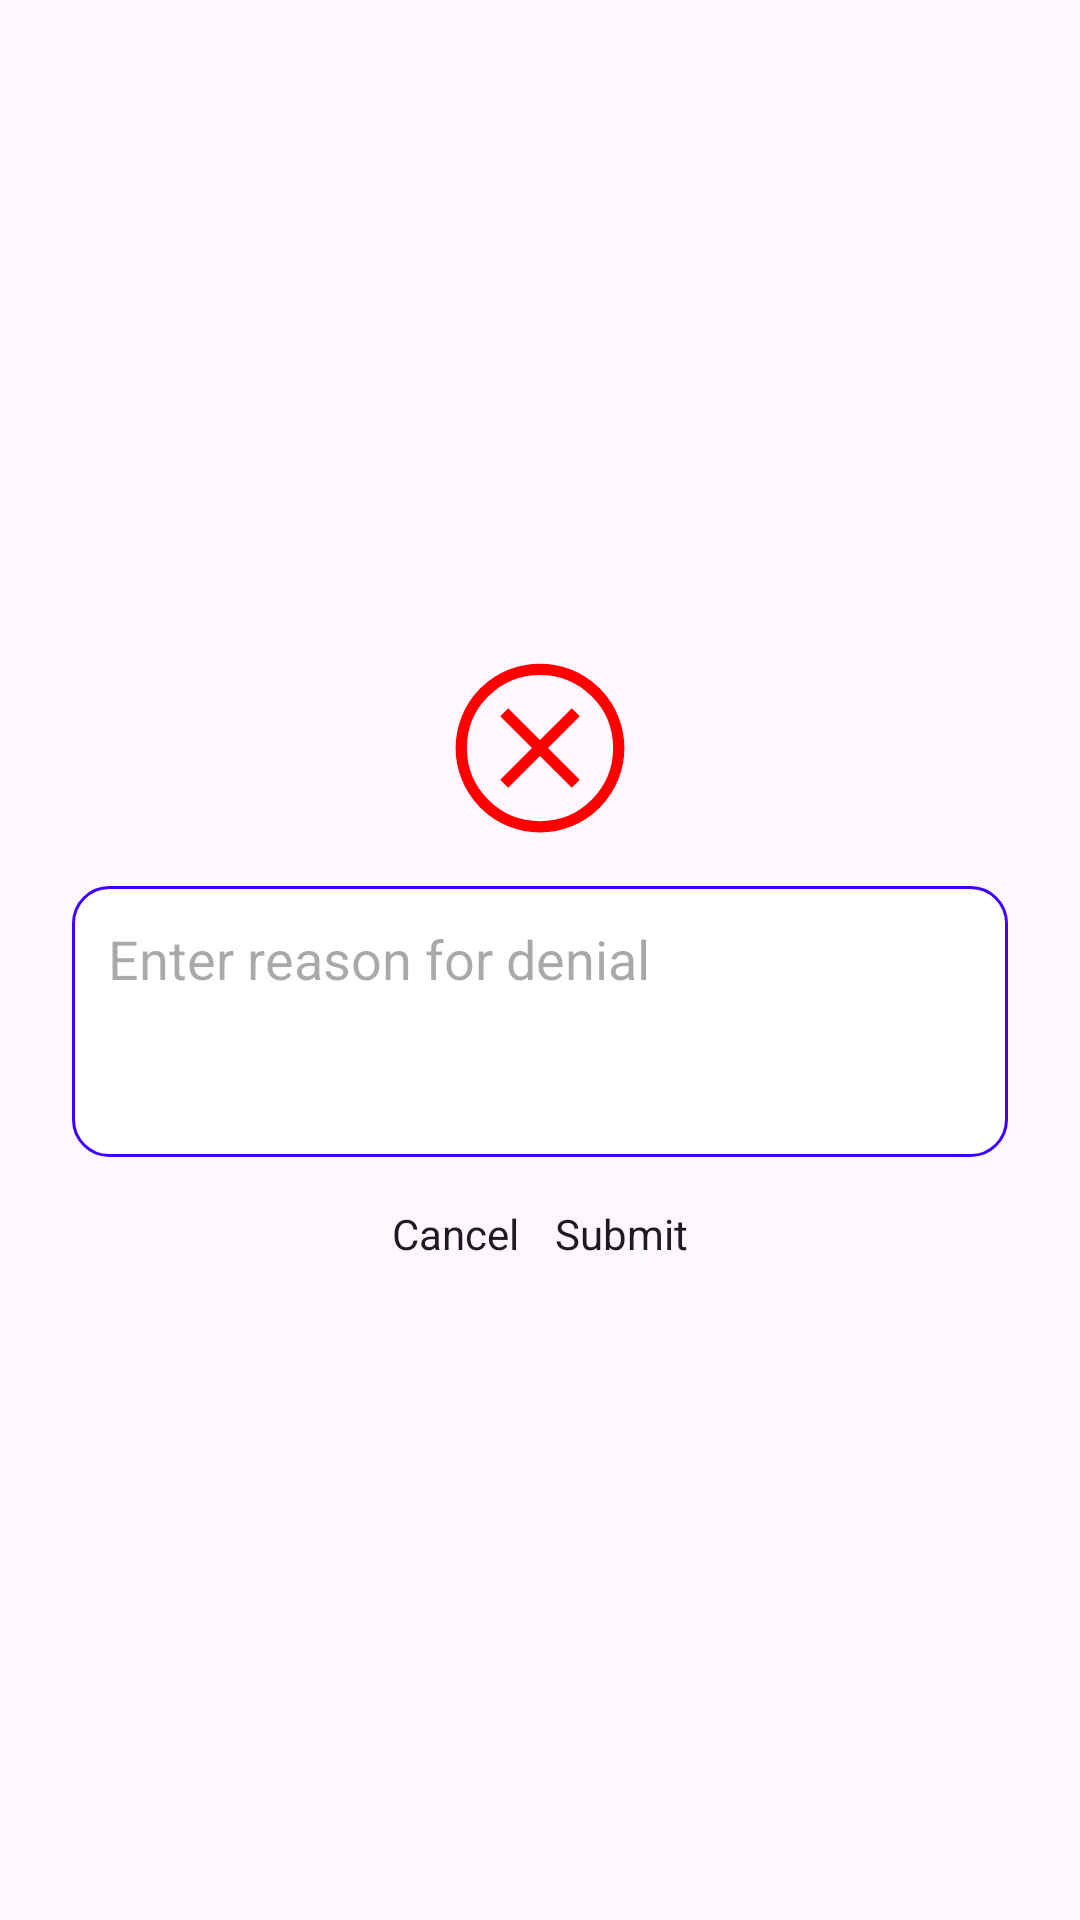

Screen size 1080w x 1920h. Icon name, then its center in pixels as (x=x, y=y):
error circle: (x=540, y=748)
